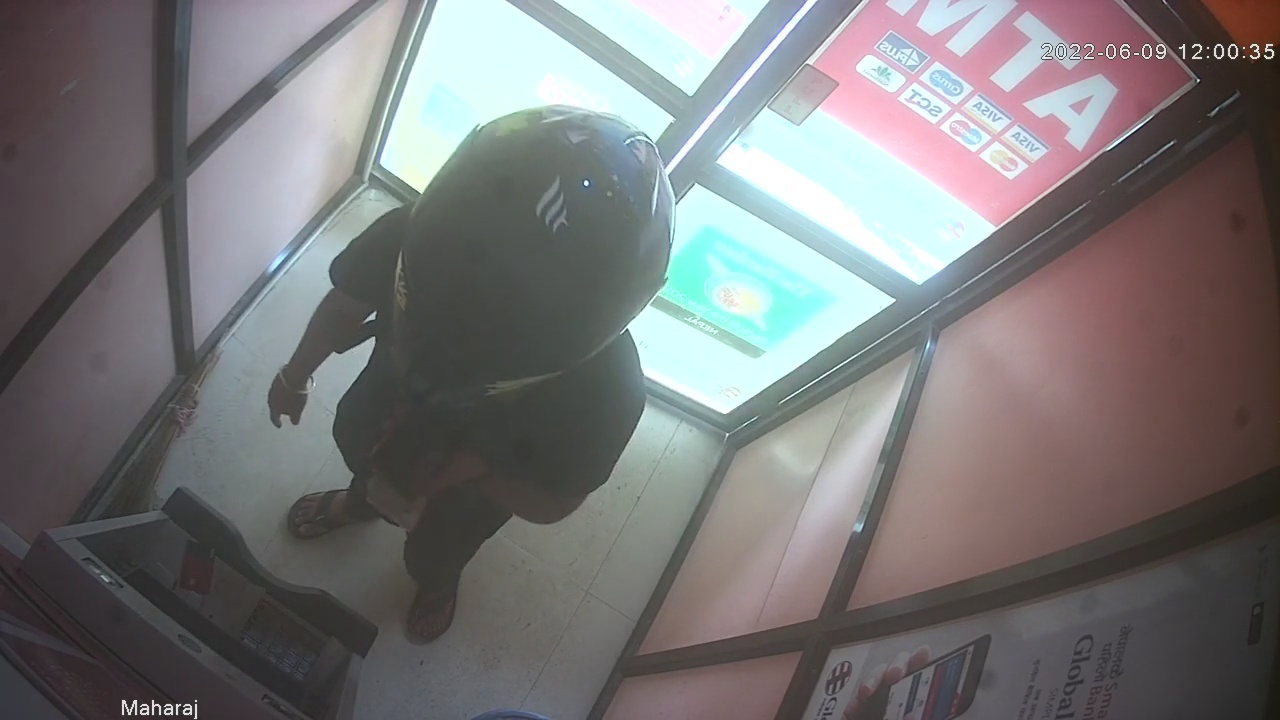helmet: (385, 104, 679, 401)
person: (266, 105, 679, 647)
